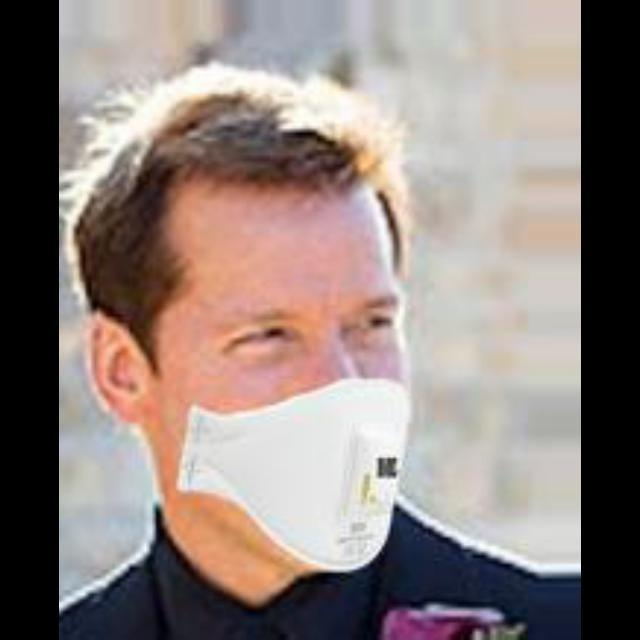suspicion: (87, 120, 445, 558)
